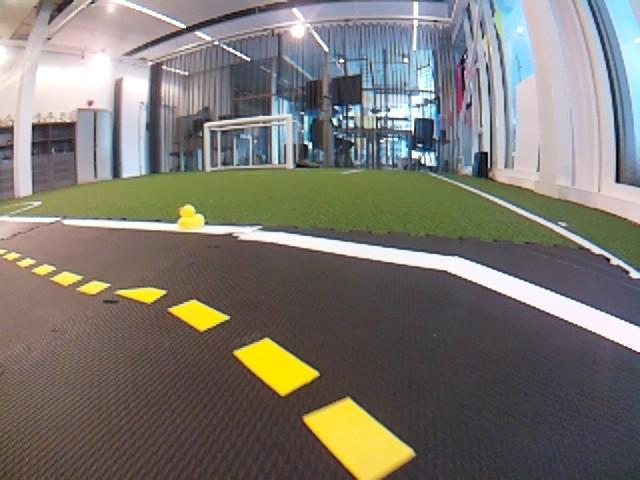Duckies: (178, 205, 204, 229)
